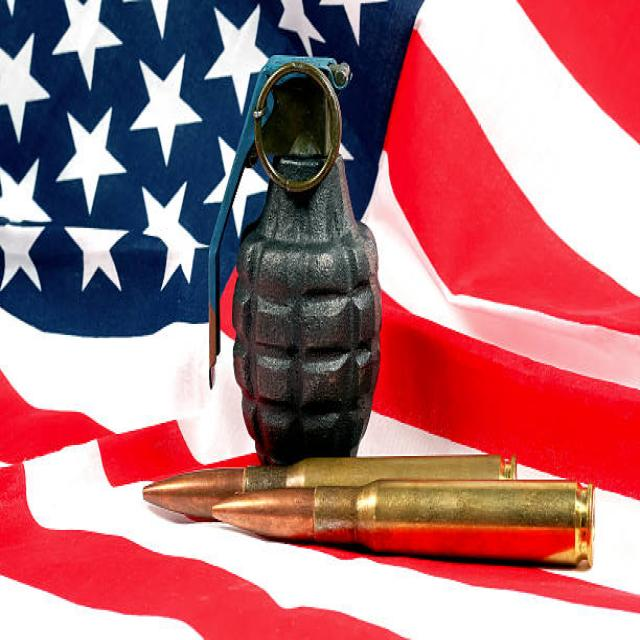grenade: (205, 50, 387, 467)
